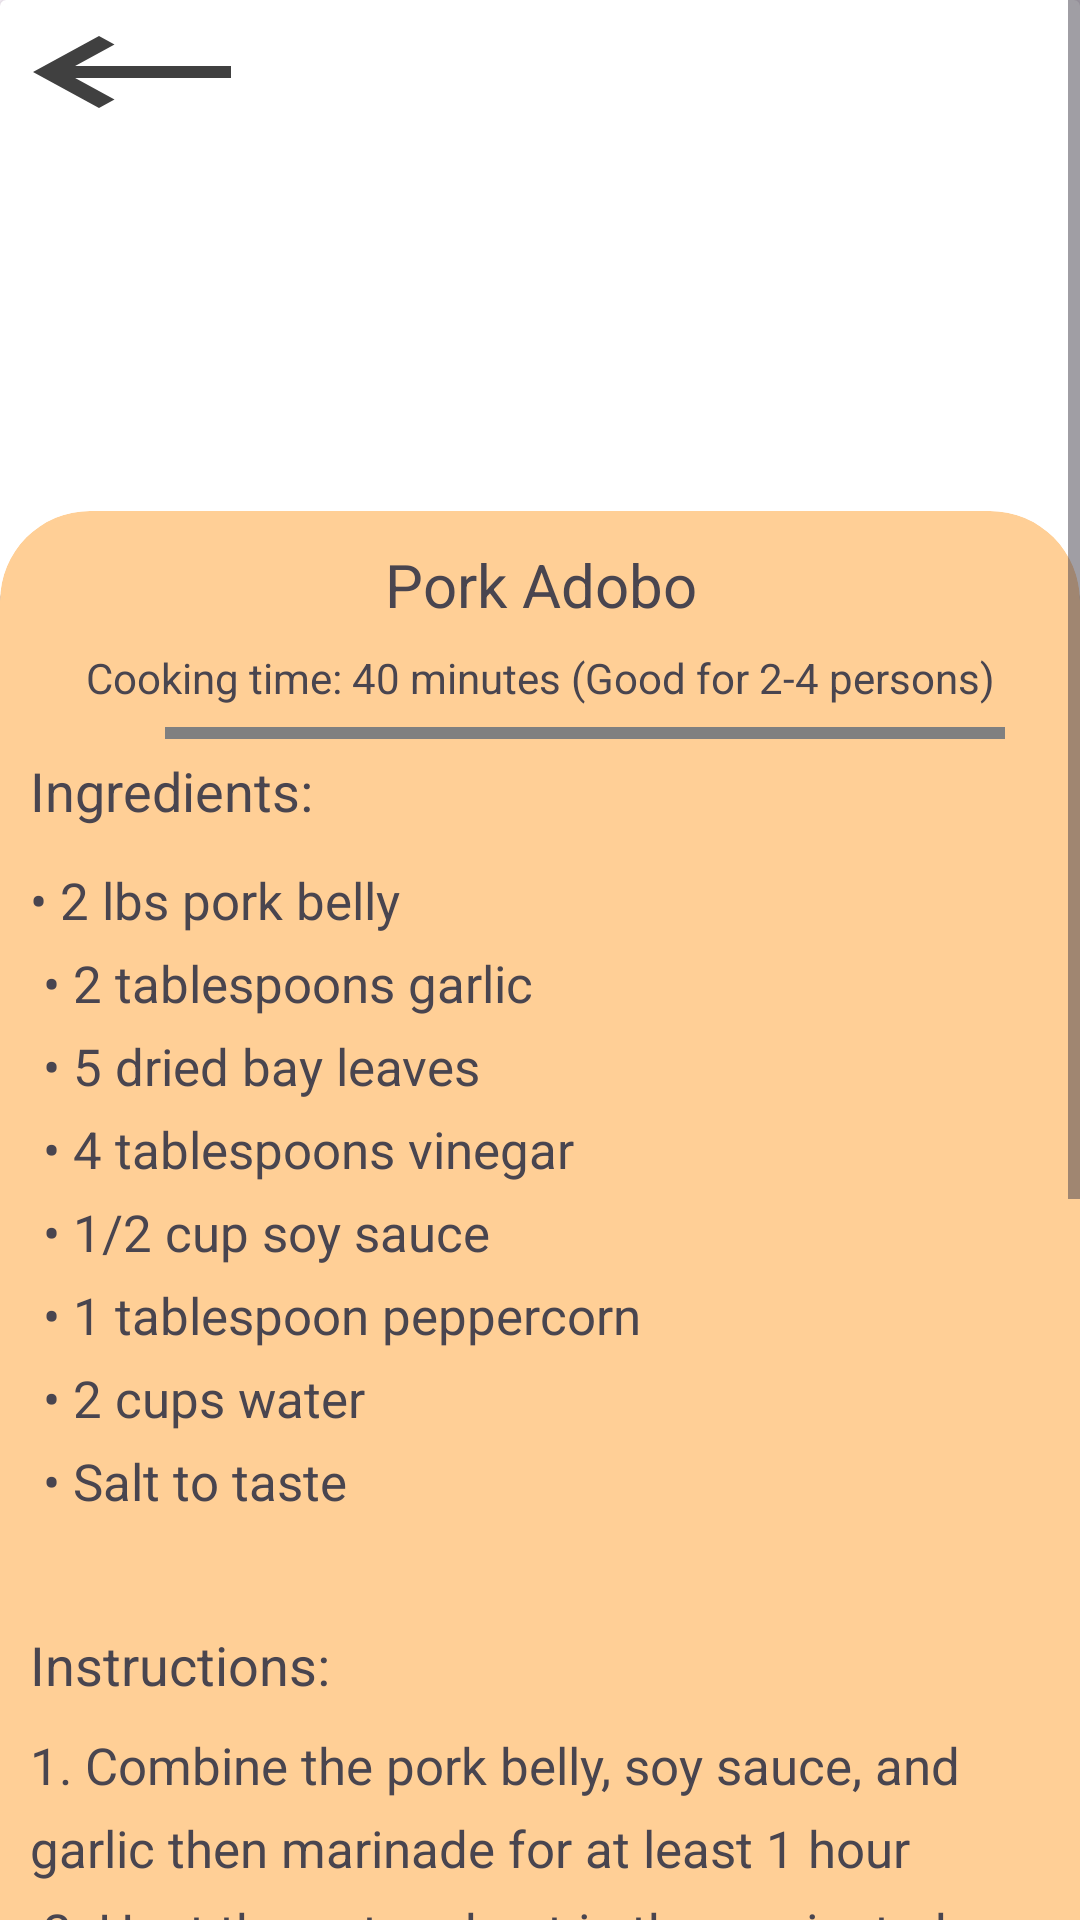

Point at icon controls on the screen. Image size 1080 x 1920, points as (x,y).
keyboard backspace: (115,54)
